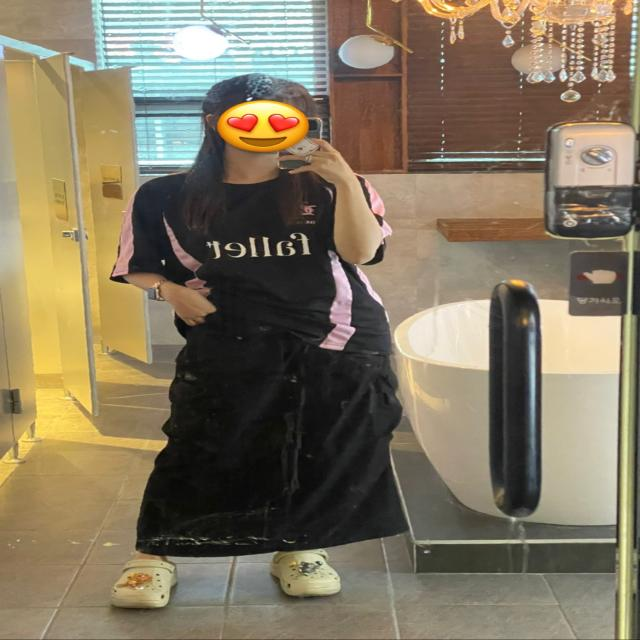shortsleeve: (112, 166, 400, 361)
skirt: (128, 310, 406, 564)
